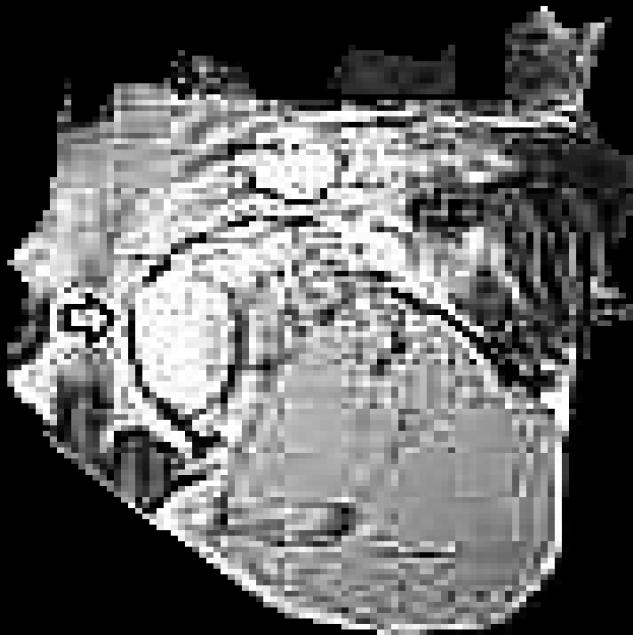tumor_less_chance: (0, 1, 633, 635)
